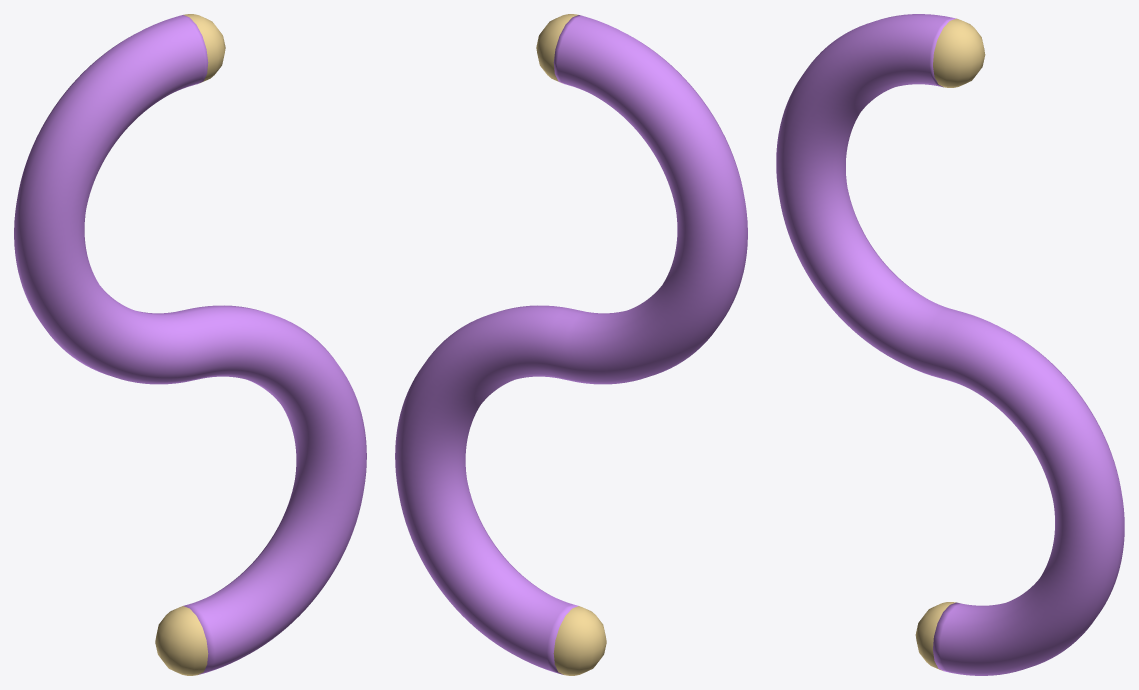
Rendered from s-hook-DvEdYURX.glb.
The picture shows the model from 3 angles, left to right: view 1: azimuth 30°, elevation 25°; view 2: azimuth 150°, elevation 25°; view 3: azimuth 330°, elevation 25°; orthographic projection.
Visible parts, largest first — view 1: R3D_s-hook_Body_0, R3D_s-hook_Tip_0, R3D_s-hook_Tip_1; view 2: R3D_s-hook_Body_0, R3D_s-hook_Tip_0, R3D_s-hook_Tip_1; view 3: R3D_s-hook_Body_0, R3D_s-hook_Tip_1, R3D_s-hook_Tip_0.
Part boxes in pixels (box(x1,y1,x2,y2)): R3D_s-hook_Body_0: box(14, 15, 366, 674); R3D_s-hook_Tip_0: box(155, 606, 208, 675); R3D_s-hook_Tip_1: box(183, 14, 225, 83); R3D_s-hook_Body_0: box(395, 15, 747, 674); R3D_s-hook_Tip_0: box(553, 606, 606, 675); R3D_s-hook_Tip_1: box(536, 14, 578, 83); R3D_s-hook_Body_0: box(776, 14, 1124, 675); R3D_s-hook_Tip_1: box(933, 18, 985, 87); R3D_s-hook_Tip_0: box(915, 602, 955, 670).
Size of the model in its own units: 1.34 by 2.44 by 0.24.
